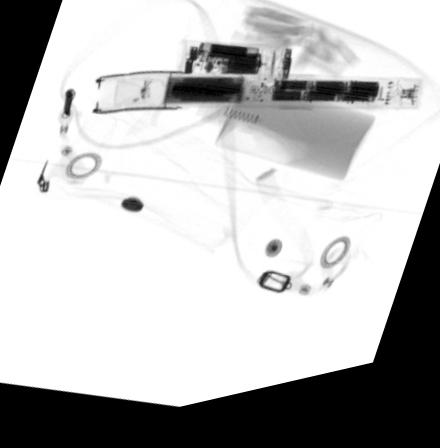Baton: (93, 76, 430, 131)
